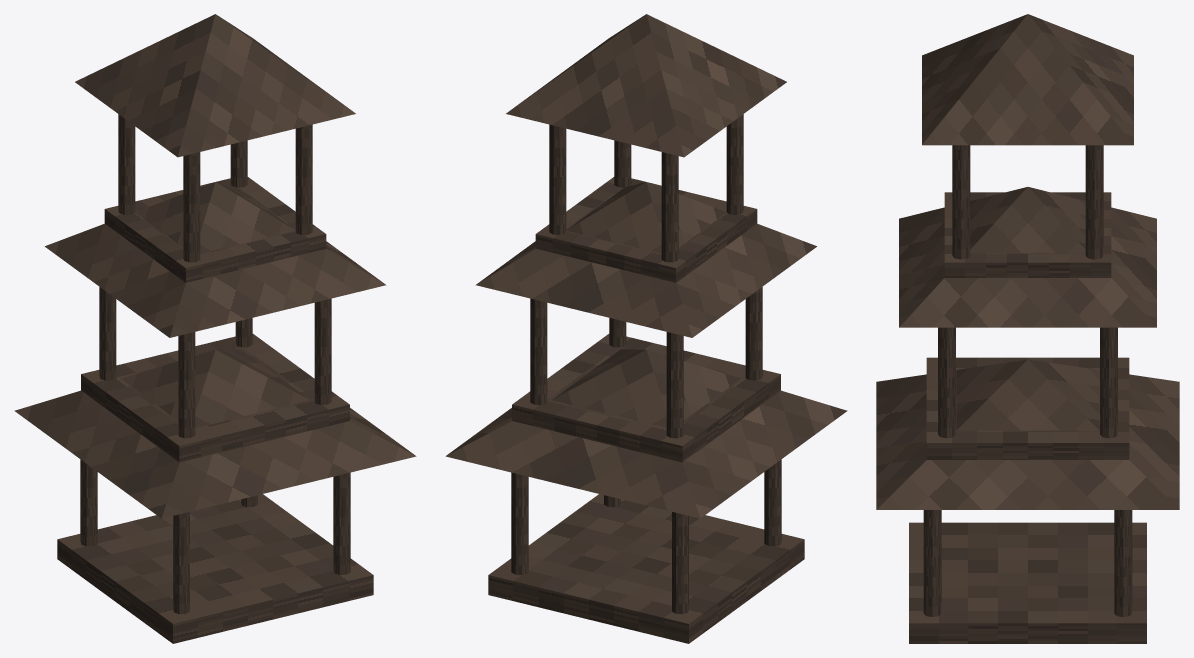
Rendered from pagoda_36.glb.
3 views of the same model, side by side, from view 1: azimuth 30°, elevation 25°; view 2: azimuth 150°, elevation 25°; view 3: azimuth 270°, elevation 25° (orthographic). The views are drawn at different scales.
Visible parts, largest first — view 1: Roof, Floor, Roof.001, Roof.002, Floor.001, Floor.002, Column.008, Column.010, Column.004, Column.006, Column.002, Column (+4 smaller); view 2: Roof, Floor, Roof.001, Roof.002, Floor.001, Floor.002, Column.009, Column.011, Column.005, Column.007, Column.003, Column.001 (+4 smaller); view 3: Roof, Roof.001, Floor, Roof.002, Floor.001, Floor.002, Column.010, Column.011, Column.002, Column.003, Column.006, Column.007.
Boxes of the visible parts, bbox=[...] form: Roof: bbox=[14, 349, 416, 518]; Floor: bbox=[57, 494, 373, 643]; Roof.001: bbox=[45, 182, 386, 337]; Roof.002: bbox=[75, 14, 355, 157]; Floor.001: bbox=[81, 334, 349, 462]; Floor.002: bbox=[104, 177, 326, 282]; Column.008: bbox=[183, 152, 200, 262]; Column.010: bbox=[295, 124, 312, 234]; Column.004: bbox=[178, 332, 195, 438]; Column.006: bbox=[314, 298, 331, 404]; Column.002: bbox=[333, 472, 350, 574]; Column: bbox=[173, 512, 189, 614]; Roof: bbox=[445, 349, 847, 518]; Floor: bbox=[488, 494, 804, 643]; Roof.001: bbox=[475, 182, 816, 337]; Roof.002: bbox=[506, 14, 786, 157]; Floor.001: bbox=[512, 334, 780, 462]; Floor.002: bbox=[535, 177, 757, 282]; Column.009: bbox=[661, 152, 678, 262]; Column.011: bbox=[549, 124, 566, 234]; Column.005: bbox=[666, 332, 683, 438]; Column.007: bbox=[530, 298, 547, 404]; Column.003: bbox=[511, 472, 528, 574]; Column.001: bbox=[672, 512, 688, 614]; Roof: bbox=[876, 359, 1179, 509]; Roof.001: bbox=[899, 187, 1156, 327]; Floor: bbox=[909, 522, 1146, 643]; Roof.002: bbox=[922, 14, 1133, 145]; Floor.001: bbox=[926, 357, 1129, 459]; Floor.002: bbox=[944, 192, 1111, 277]; Column.010: bbox=[952, 145, 970, 259]; Column.011: bbox=[1085, 145, 1103, 259]; Column.002: bbox=[923, 510, 941, 616]; Column.003: bbox=[1114, 510, 1132, 616]; Column.006: bbox=[938, 327, 955, 438]; Column.007: bbox=[1100, 327, 1117, 438].
Bounding box in the file's own units: 4.01 × 8.45 × 4.01.
Materials: 1 (1 with a texture image).
